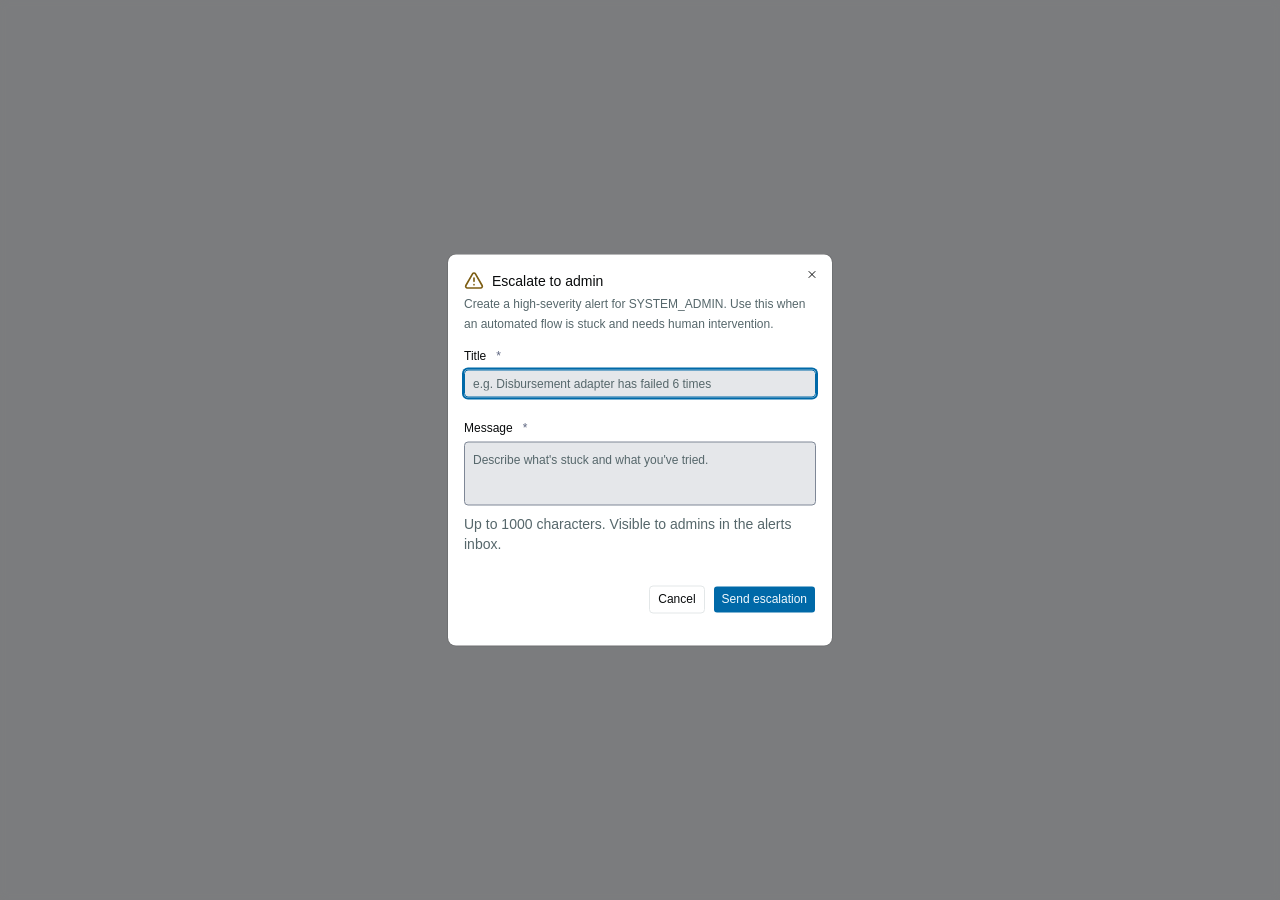
Test: <EscalateToAdminDialog /> › blocks submit and attaches the error to the title field when it is blank
Expected: the dialog is shown, [448, 254, 832, 646]
Click the text box labelled "Message *" at (640, 474), box [464, 442, 816, 506]
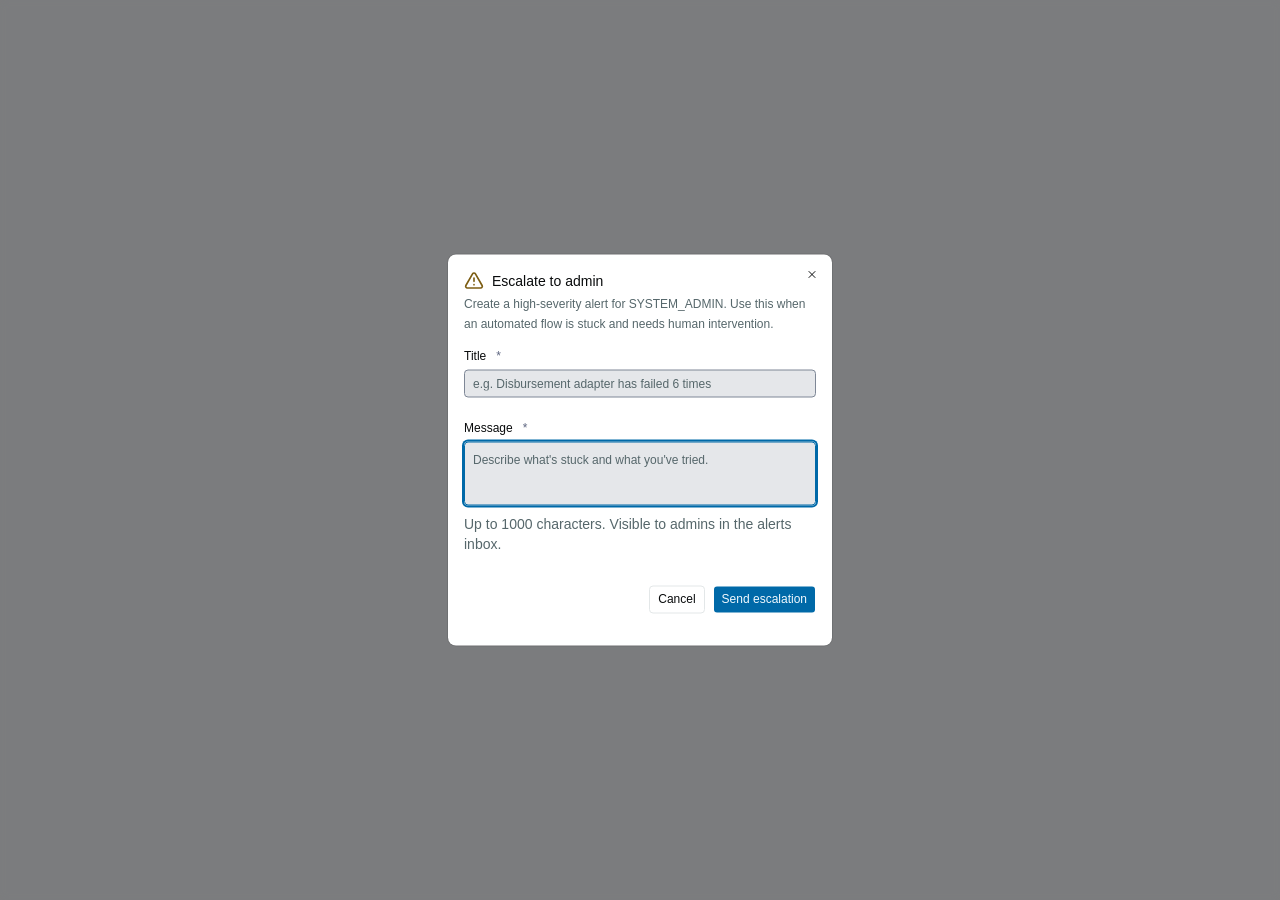
Type keys "Body only, no title"
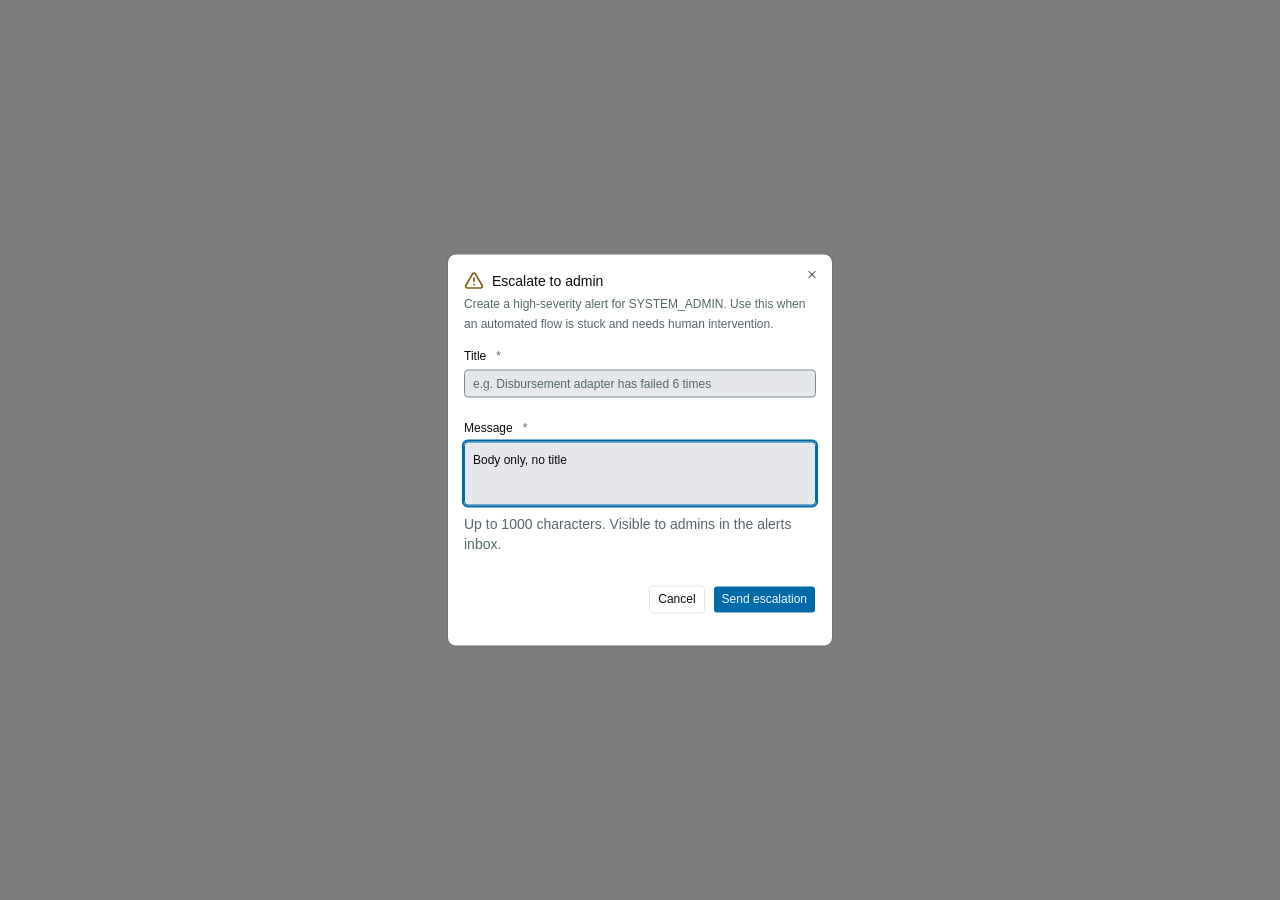
Click the button "Send escalation" at (764, 600), box [713, 586, 816, 614]
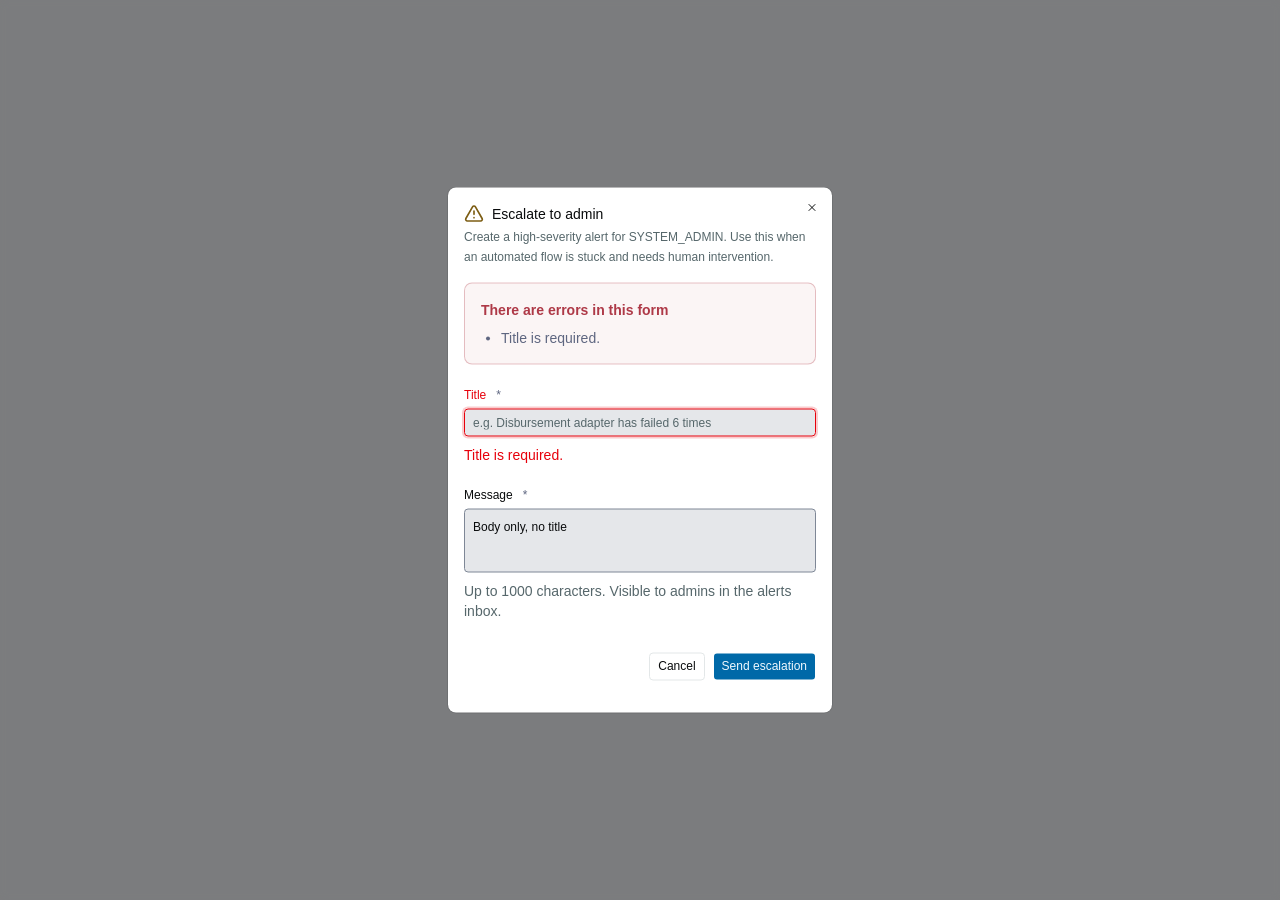
Now the list item "Title is required." is shown, box [501, 330, 600, 346]
